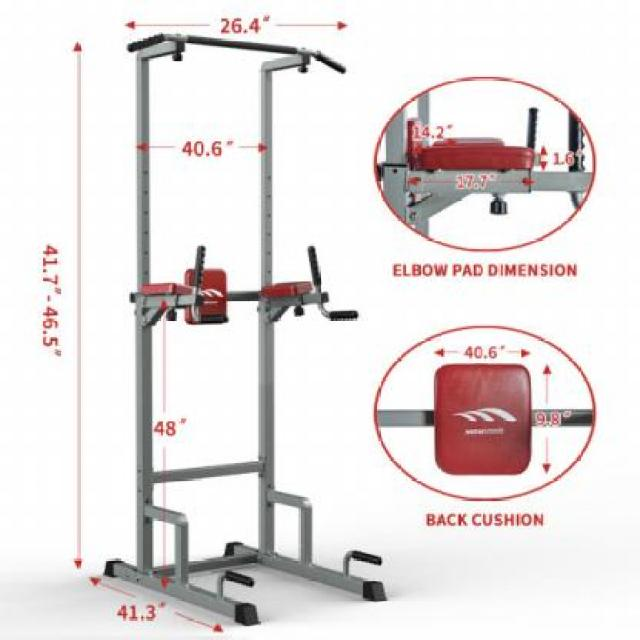chinning dipping: (101, 32, 392, 623)
